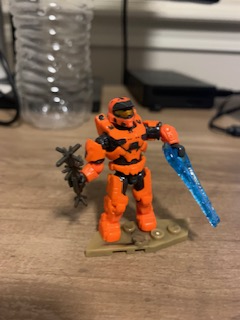spartan: (69, 95, 187, 245)
